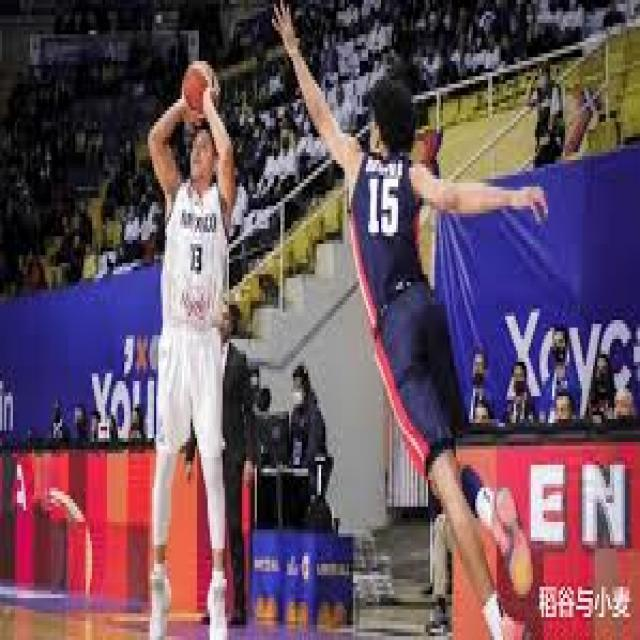rim: (184, 60, 218, 114)
